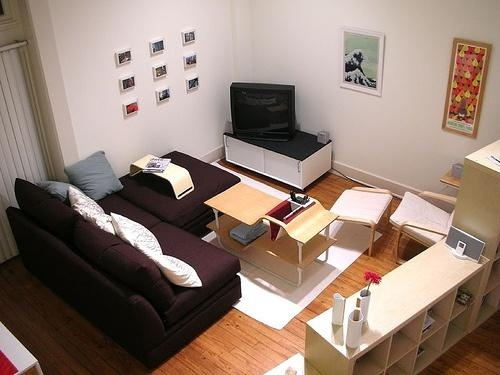chair: (395, 185, 465, 259)
sofa: (5, 149, 246, 367)
tvmonitor: (229, 82, 298, 143)
